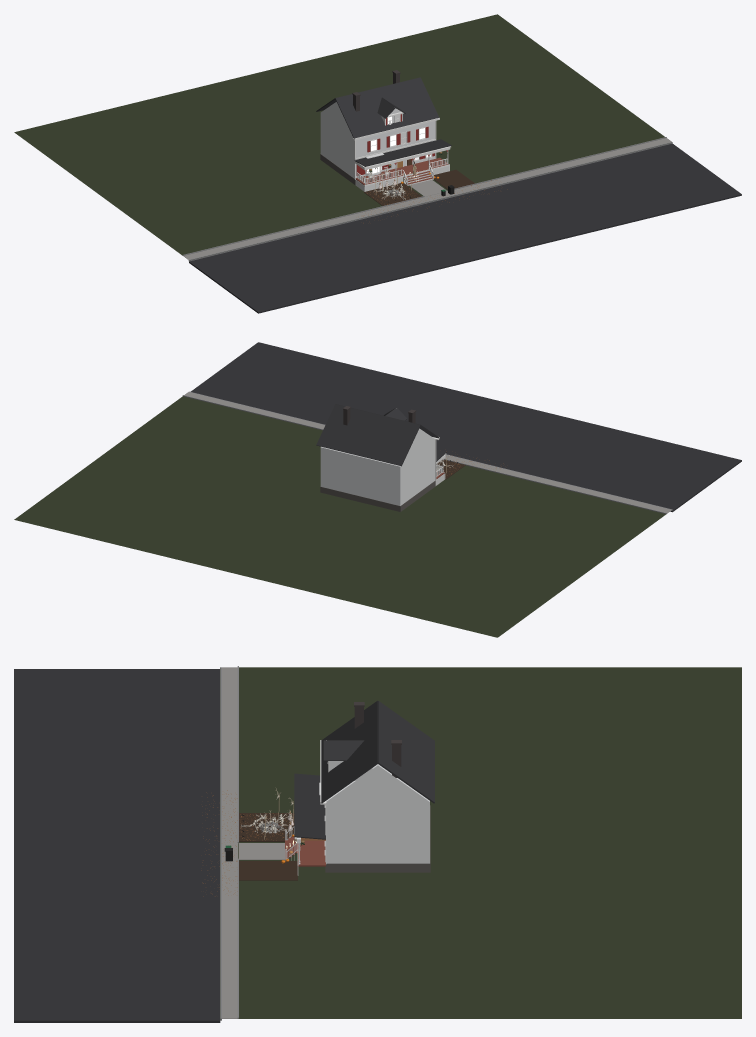
The picture shows the model from 3 angles, top to bottom: view 1: azimuth 30°, elevation 25°; view 2: azimuth 150°, elevation 25°; view 3: azimuth 270°, elevation 25°; orthographic projection. The views are drawn at different scales.
Parts seen in each view (by area): view 1: Lawn, Street, Roof, Walk_and_Sidewalk, House_Body, Curbs, Mulch_Bed, House_Trim, Porch_Roof, Porch_Floor, Porch_Trim, Shutters; view 2: Lawn, Street, House_Body, Roof, Walk_and_Sidewalk, Curbs, House_Foundation; view 3: Lawn, Street, House_Body, Roof, Walk_and_Sidewalk, Mulch_Bed, Porch_Roof, Curbs, House_Foundation, Porch_Floor.
Boxes of the visible parts, left/top/right/bottom form: Lawn: left=14, top=14, right=671, bottom=260; Street: left=189, top=143, right=741, bottom=313; Roof: left=316, top=77, right=439, bottom=138; Walk_and_Sidewalk: left=183, top=138, right=671, bottom=259; House_Body: left=320, top=102, right=434, bottom=178; Curbs: left=182, top=137, right=672, bottom=261; Mulch_Bed: left=364, top=169, right=474, bottom=205; House_Trim: left=352, top=108, right=439, bottom=179; Porch_Roof: left=354, top=139, right=451, bottom=166; Porch_Floor: left=355, top=157, right=448, bottom=185; Porch_Trim: left=355, top=146, right=450, bottom=191; Shutters: left=356, top=114, right=434, bottom=175; Lawn: left=14, top=396, right=665, bottom=637; Street: left=190, top=342, right=741, bottom=512; House_Body: left=320, top=428, right=434, bottom=505; Roof: left=316, top=404, right=439, bottom=466; Walk_and_Sidewalk: left=184, top=392, right=671, bottom=513; Curbs: left=182, top=391, right=672, bottom=514; House_Foundation: left=320, top=481, right=435, bottom=511; Lawn: left=220, top=667, right=741, bottom=1018; Street: left=14, top=669, right=220, bottom=1022; House_Body: left=326, top=764, right=429, bottom=863; Roof: left=321, top=701, right=434, bottom=803; Walk_and_Sidewalk: left=222, top=667, right=284, bottom=1018; Mulch_Bed: left=239, top=813, right=297, bottom=880; Porch_Roof: left=294, top=773, right=325, bottom=839; Curbs: left=220, top=666, right=238, bottom=1020; House_Foundation: left=325, top=805, right=430, bottom=872; Porch_Floor: left=298, top=840, right=325, bottom=866.
Bounding box in the file's own units: 80 × 13.08 × 70.
